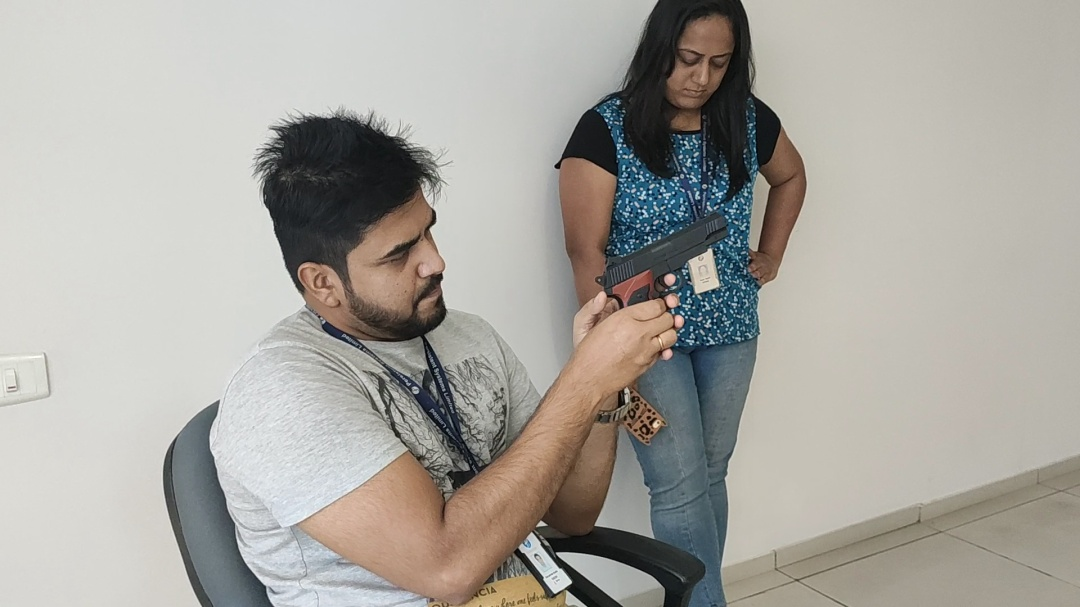gun: (594, 213, 730, 301)
